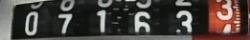digits: (175, 9, 195, 36), (132, 12, 152, 38), (24, 10, 38, 34), (216, 0, 232, 20), (57, 14, 73, 34), (96, 9, 106, 32)
